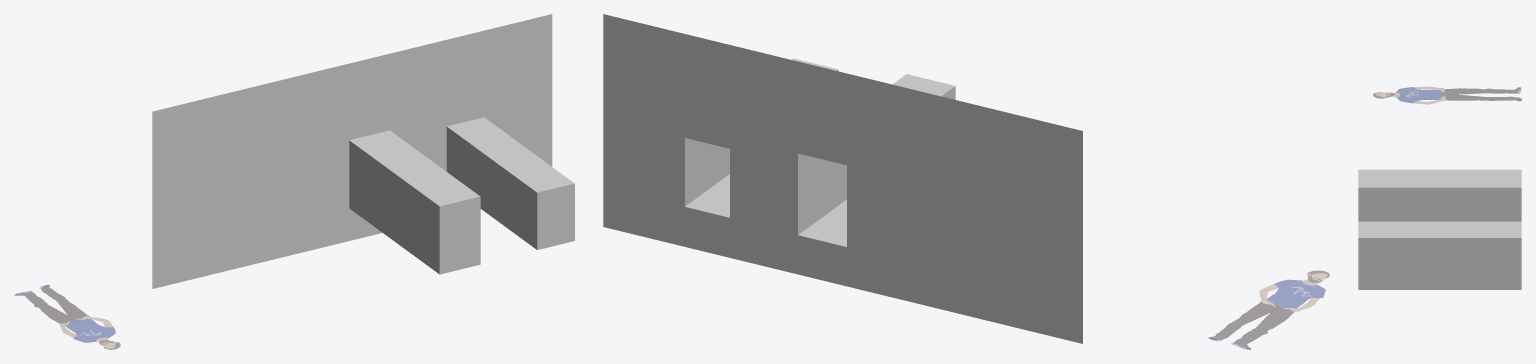
File: 机房尝试.glb
The picture shows the model from 3 angles, left to right: view 1: azimuth 30°, elevation 25°; view 2: azimuth 150°, elevation 25°; view 3: azimuth 270°, elevation 25°; orthographic projection. The views are drawn at different scales.
Visible parts, largest first — view 1: ID201, ID213, ID207, ID43, ID5; view 2: ID201, ID213, ID207, ID43, ID5; view 3: ID207, ID213, ID43, ID5.
Boxes of the visible parts, bbox=[...] form: ID201: bbox=[152, 14, 552, 288]; ID213: bbox=[349, 130, 480, 274]; ID207: bbox=[446, 117, 574, 249]; ID43: bbox=[25, 288, 87, 323]; ID5: bbox=[65, 319, 115, 342]; ID201: bbox=[603, 14, 1082, 343]; ID213: bbox=[798, 74, 955, 246]; ID207: bbox=[685, 58, 838, 217]; ID43: bbox=[1215, 302, 1294, 343]; ID5: bbox=[1267, 279, 1325, 308]; ID207: bbox=[1358, 221, 1521, 289]; ID213: bbox=[1358, 169, 1521, 221]; ID43: bbox=[1443, 88, 1514, 100]; ID5: bbox=[1395, 87, 1443, 103].
Bounding box in the file's own units: 2.71 × 0.8518 × 0.7878.
